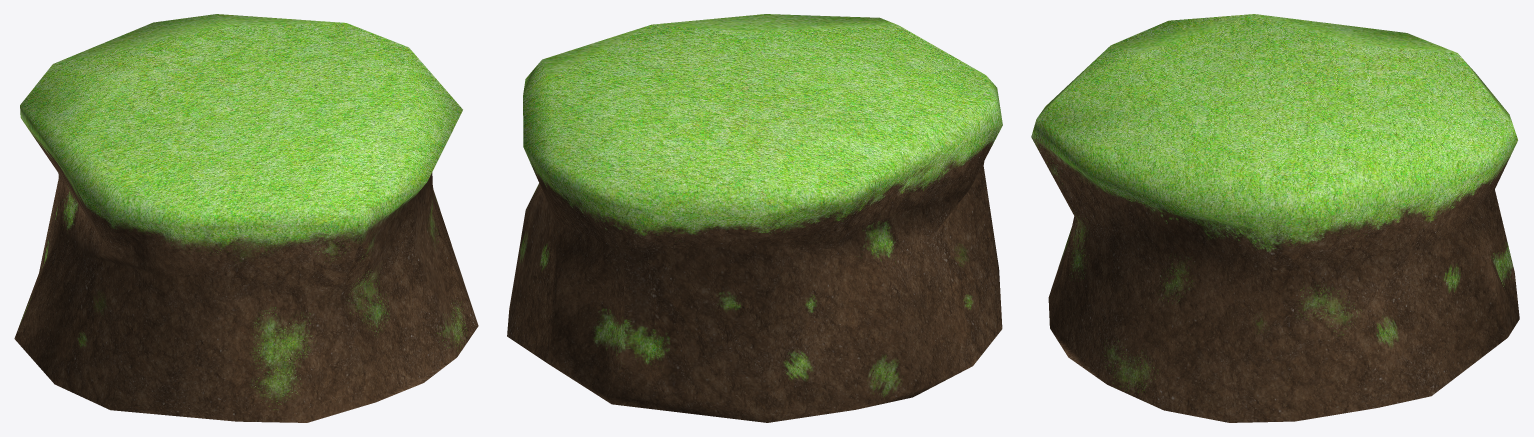
Rendered from ENV2910001.fbx.
The picture shows the model from 3 angles, left to right: view 1: azimuth 30°, elevation 25°; view 2: azimuth 150°, elevation 25°; view 3: azimuth 270°, elevation 25°; orthographic projection. The views are drawn at different scales.
Parts seen in each view (by area): view 1: smENV2910001; view 2: smENV2910001; view 3: smENV2910001.
Part boxes in pixels (x1,y1,x2,y2): smENV2910001: (14, 14, 478, 422); smENV2910001: (507, 14, 1002, 422); smENV2910001: (1031, 14, 1519, 422).
Size of the model in its own units: 88.72 by 50.46 by 93.08.
1 material, 1 textured.
